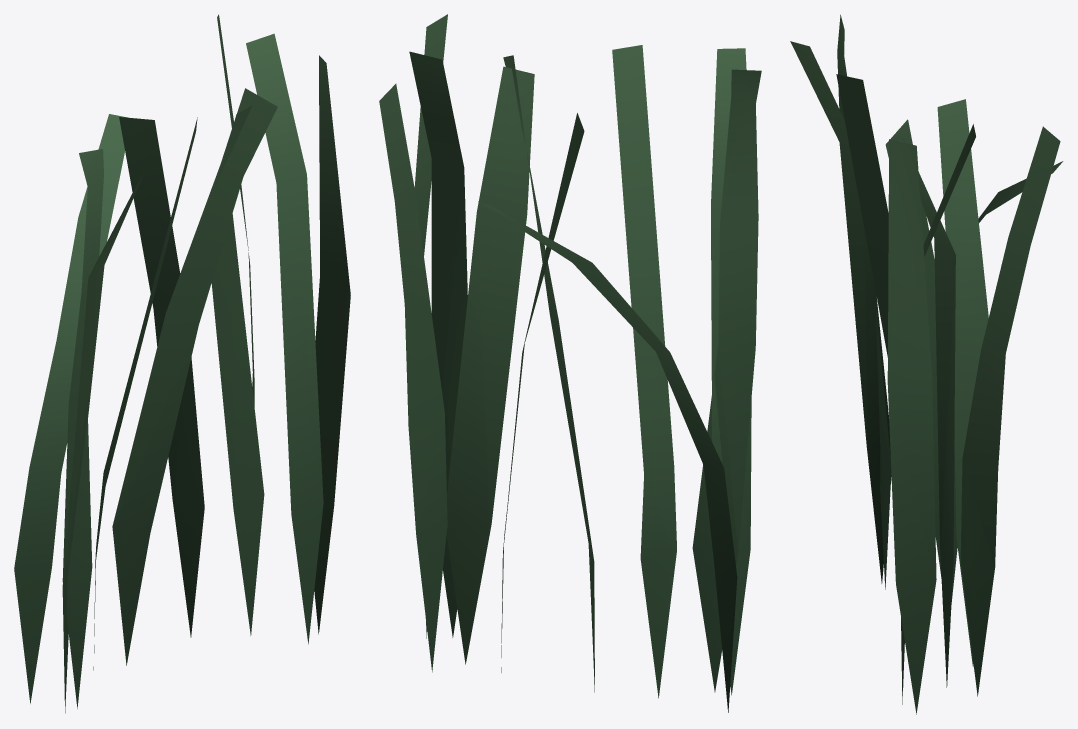
Rendered from trees-grasses-tall-grass_v9.glb.
3 renders of one model, left to right at view 1: azimuth 30°, elevation 25°; view 2: azimuth 150°, elevation 25°; view 3: azimuth 270°, elevation 25°, orthographic. The views are drawn at different scales.
Visible parts, largest first — view 1: Tall Grass_v9; view 2: Tall Grass_v9; view 3: Tall Grass_v9.
Boxes of the visible parts, x1,y1,x2,y2 form: Tall Grass_v9: (14, 14, 350, 713); Tall Grass_v9: (379, 14, 761, 712); Tall Grass_v9: (790, 14, 1063, 714).
Size of the model in its own units: 0.2835 by 0.5 by 0.2163.
